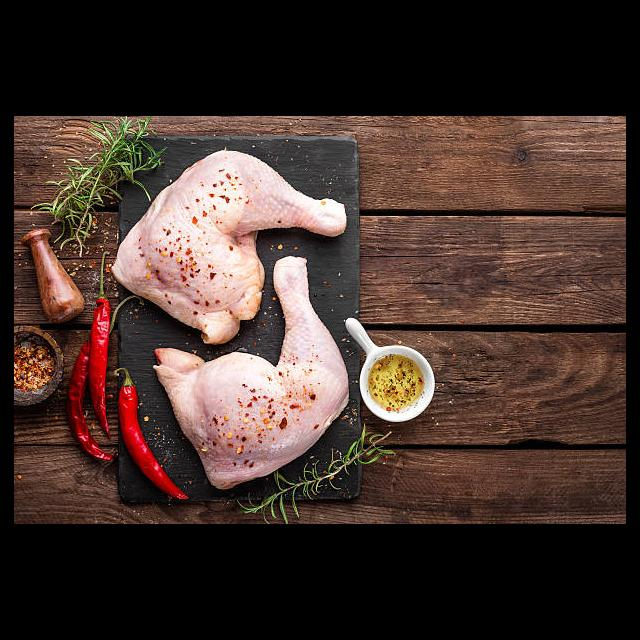chicken: (112, 150, 346, 342), (158, 255, 348, 485)
